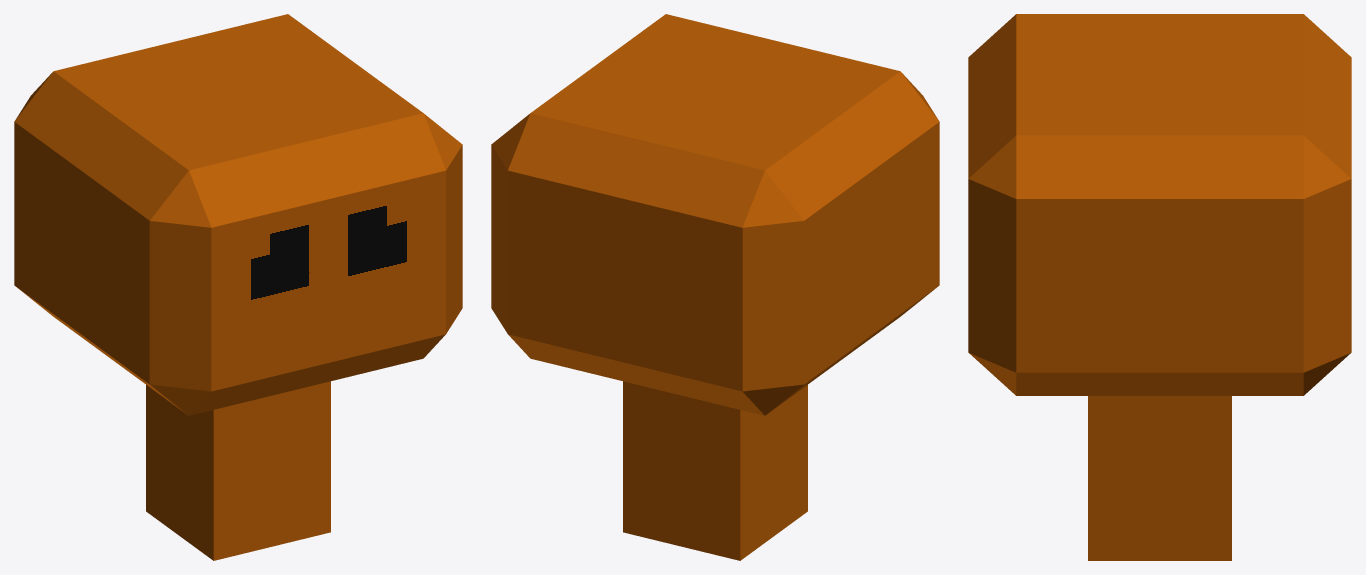
Rendered from generic_head.gltf.
3 views of the same model, side by side, from view 1: azimuth 30°, elevation 25°; view 2: azimuth 150°, elevation 25°; view 3: azimuth 270°, elevation 25° (orthographic). The views are drawn at different scales.
Visible parts, largest first — view 1: beveled_cuboid; view 2: beveled_cuboid; view 3: beveled_cuboid.
Part boxes in pixels (<box>): beveled_cuboid: <box>14,14,462,560</box>; beveled_cuboid: <box>491,14,939,560</box>; beveled_cuboid: <box>968,14,1351,560</box>.
Bounding box in the file's own units: 1 × 1.31 × 1.
Materials: 1 (1 with a texture image).
